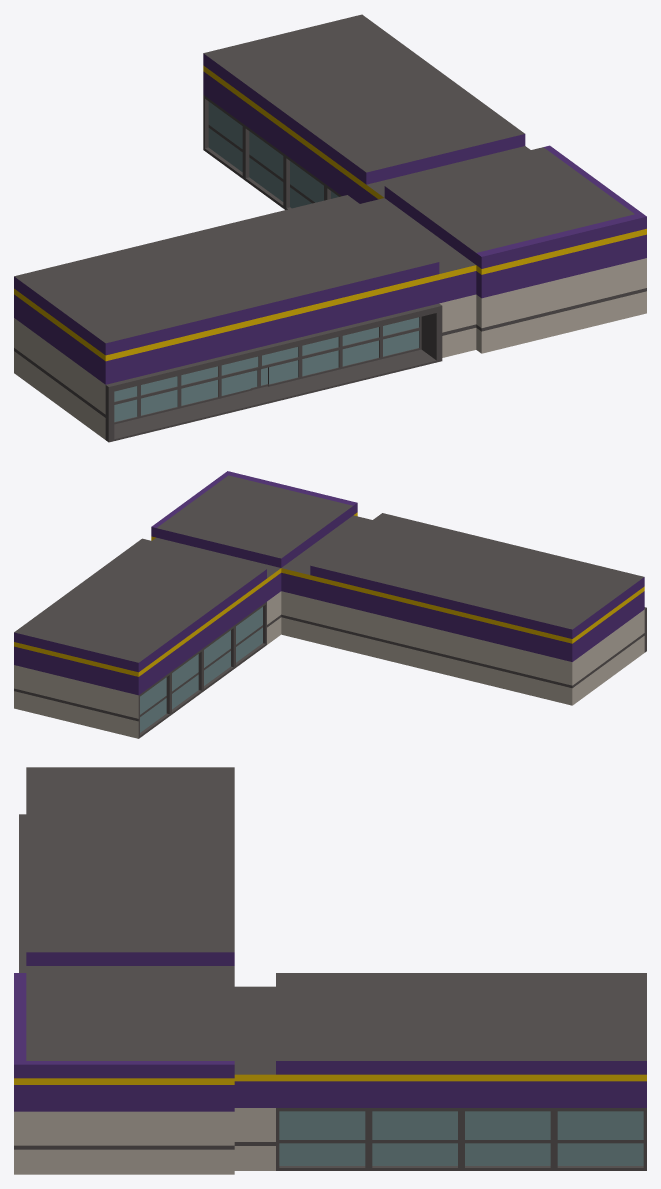
The model's file is Depot_Resturant_S3.fbx.
The picture shows the model from 3 angles, top to bottom: view 1: azimuth 30°, elevation 25°; view 2: azimuth 150°, elevation 25°; view 3: azimuth 270°, elevation 25°; orthographic projection. The views are drawn at different scales.
Parts seen in each view (by area): view 1: Depot_Resturant; view 2: Depot_Resturant; view 3: Depot_Resturant.
Boxes of the visible parts, <box> form: Depot_Resturant: <box>14,14,646,442</box>; Depot_Resturant: <box>14,471,646,738</box>; Depot_Resturant: <box>14,767,646,1174</box>.
Bounding box in the file's own units: 8099 × 1398 × 7285.
